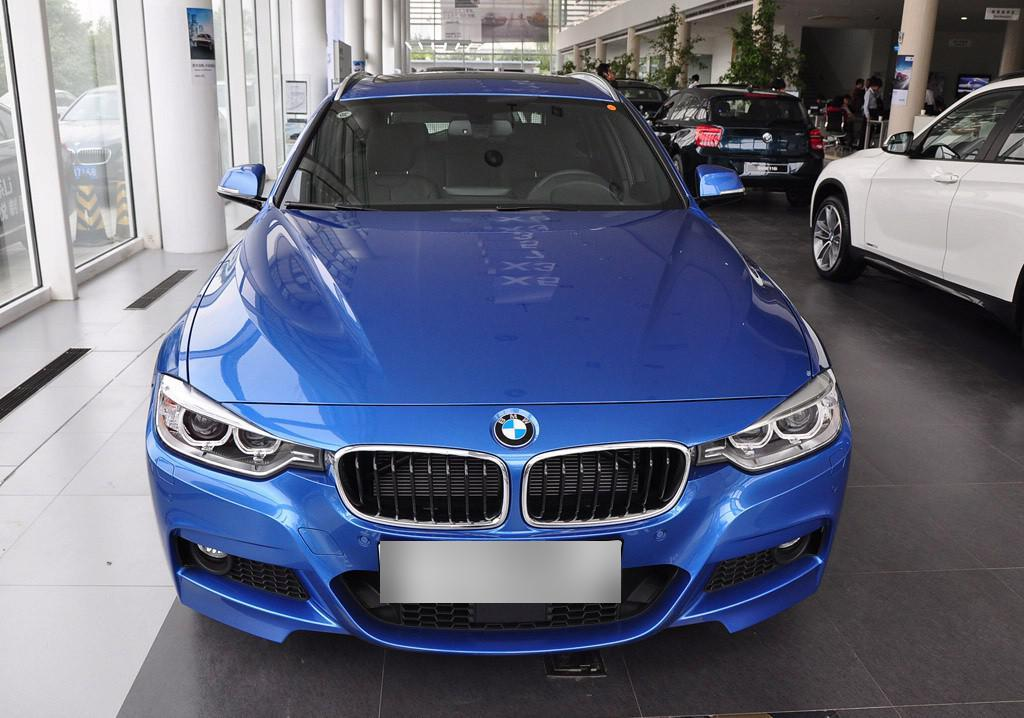Wagon: (147, 70, 855, 661)
